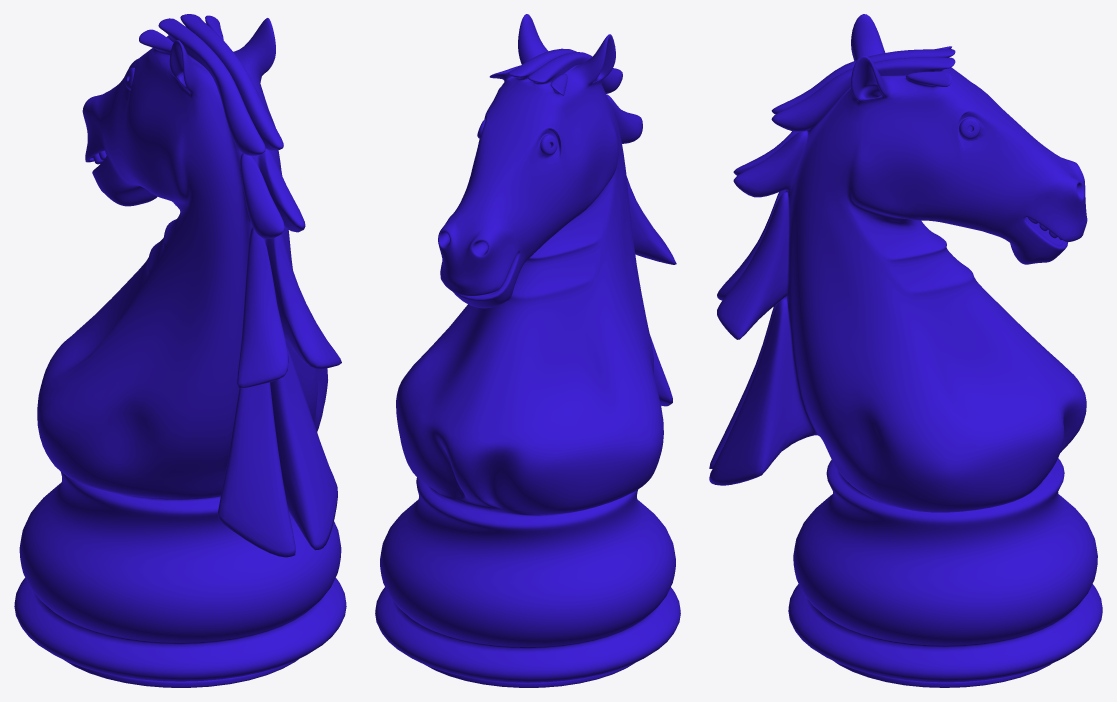
File: bluehorse.fbx
3 views of the same model, side by side, from view 1: azimuth 30°, elevation 25°; view 2: azimuth 150°, elevation 25°; view 3: azimuth 270°, elevation 25° (orthographic). The views are drawn at different scales.
Visible parts, largest first — view 1: Mesh.004; view 2: Mesh.004; view 3: Mesh.004.
Part boxes in pixels (<box>): Mesh.004: <box>14,14,346,687</box>; Mesh.004: <box>375,14,680,687</box>; Mesh.004: <box>709,14,1102,687</box>.
Size of the model in its own units: 172 by 362 by 216.
